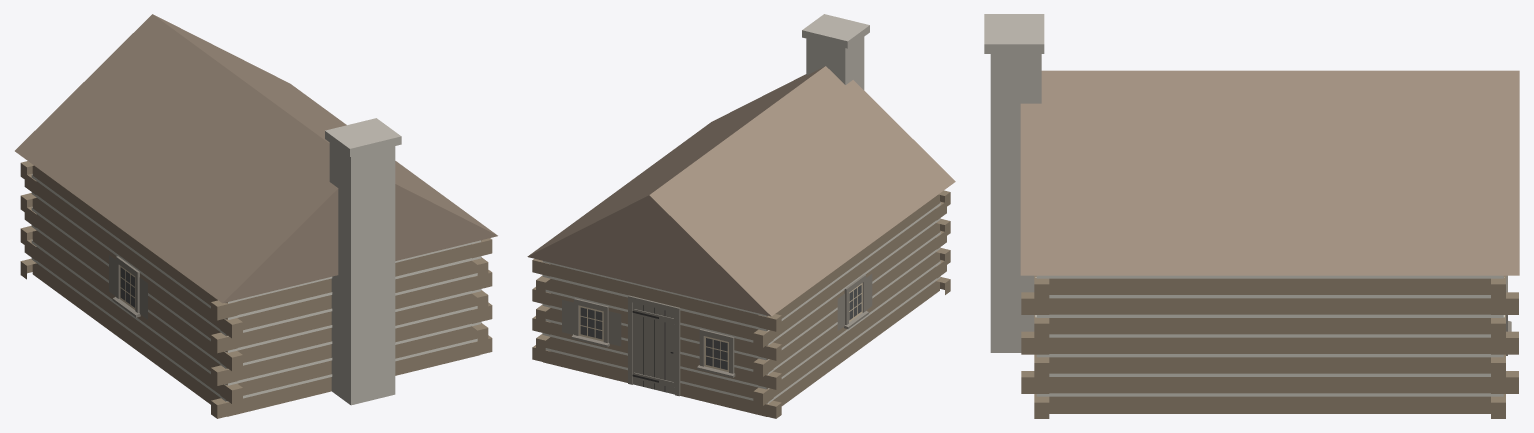
Rendered from recon_1835_west_014__inferred_1835.glb.
3 renders of one model, left to right at view 1: azimuth 30°, elevation 25°; view 2: azimuth 150°, elevation 25°; view 3: azimuth 270°, elevation 25°, orthographic. The views are drawn at different scales.
Parts seen in each view (by area): view 1: recon_1835_west_014__inferred_1835; view 2: recon_1835_west_014__inferred_1835; view 3: recon_1835_west_014__inferred_1835.
Part boxes in pixels (left/top/right/bottom): recon_1835_west_014__inferred_1835: left=15, top=14, right=497, bottom=418; recon_1835_west_014__inferred_1835: left=527, top=14, right=955, bottom=418; recon_1835_west_014__inferred_1835: left=984, top=14, right=1519, bottom=418.
Size of the model in its own units: 5.99 by 5.37 by 8.39.
